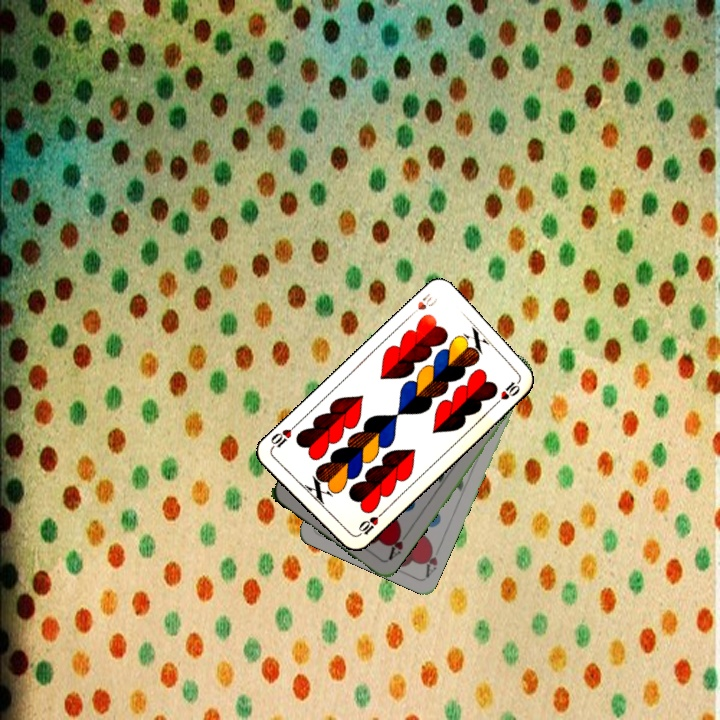H10: (404, 289, 440, 320), (352, 512, 381, 540)
HA: (384, 525, 412, 563), (419, 540, 440, 580)
